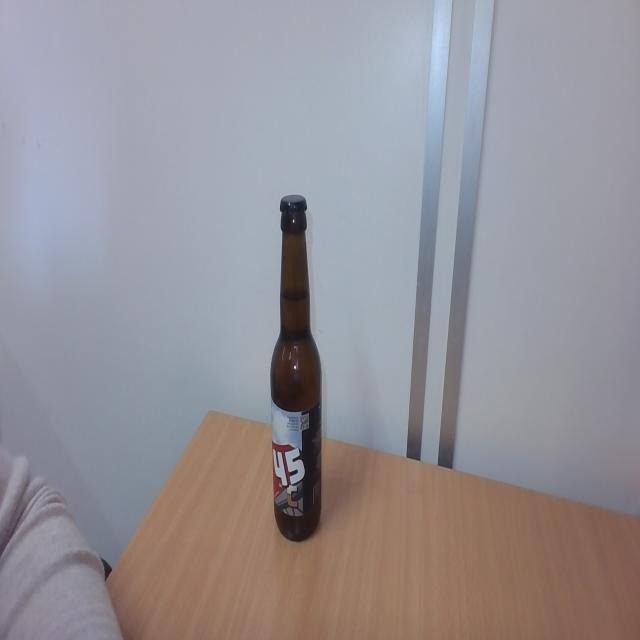Bottle: (269, 218, 323, 544)
Cap: (279, 190, 307, 217)
Label: (272, 398, 323, 516)
